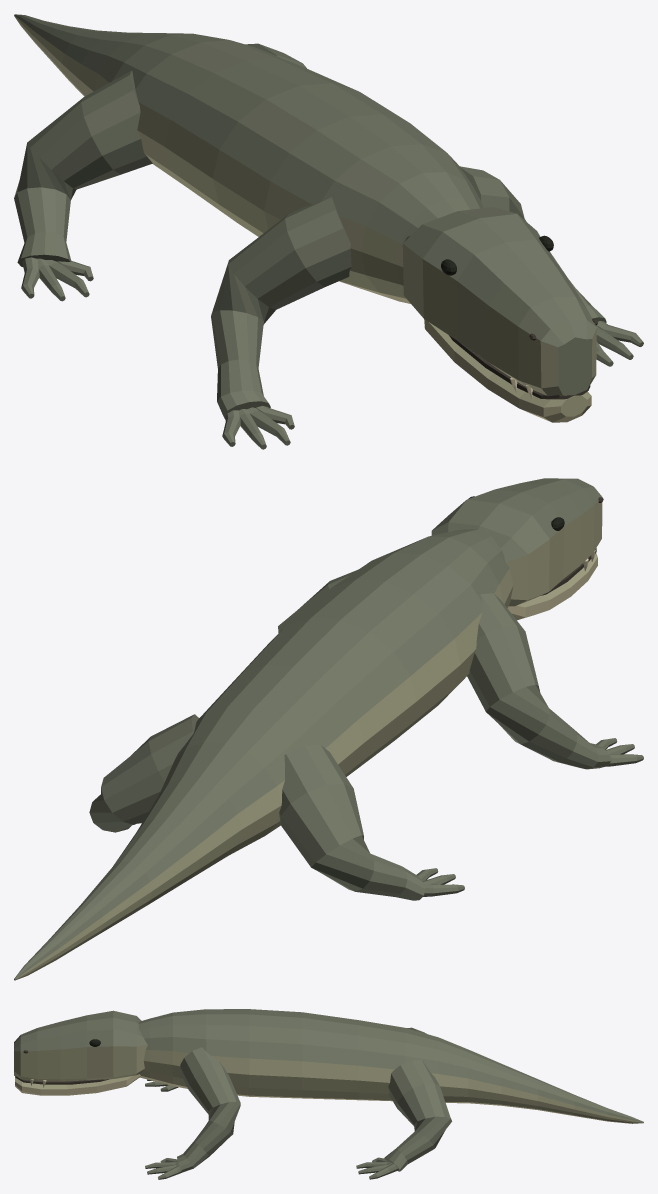
3 renders of one model, top to bottom at view 1: azimuth 30°, elevation 25°; view 2: azimuth 150°, elevation 25°; view 3: azimuth 270°, elevation 25°, orthographic. The views are drawn at different scales.
Visible parts, largest first — view 1: axial_body, robust_limbs_and_digits, deep_narrow_skull, mandible, mouth_details; view 2: axial_body, robust_limbs_and_digits, deep_narrow_skull, mandible; view 3: axial_body, robust_limbs_and_digits, deep_narrow_skull, mandible, mouth_details.
Part boxes in pixels (x1,y1,x2,y2): axial_body: (14, 14, 483, 303); robust_limbs_and_digits: (14, 43, 643, 449); deep_narrow_skull: (402, 207, 596, 396); mandible: (424, 319, 591, 422); mouth_details: (449, 318, 597, 399); axial_body: (14, 529, 513, 980); robust_limbs_and_digits: (89, 570, 643, 900); deep_narrow_skull: (431, 478, 602, 606); mandible: (507, 553, 597, 620); axial_body: (138, 1009, 643, 1123); robust_limbs_and_digits: (145, 1027, 451, 1179); deep_narrow_skull: (14, 1010, 147, 1081); mandible: (15, 1074, 140, 1095); mouth_details: (15, 1050, 109, 1084).
Size of the model in its own units: 0.7538 by 0.3779 by 1.9.
